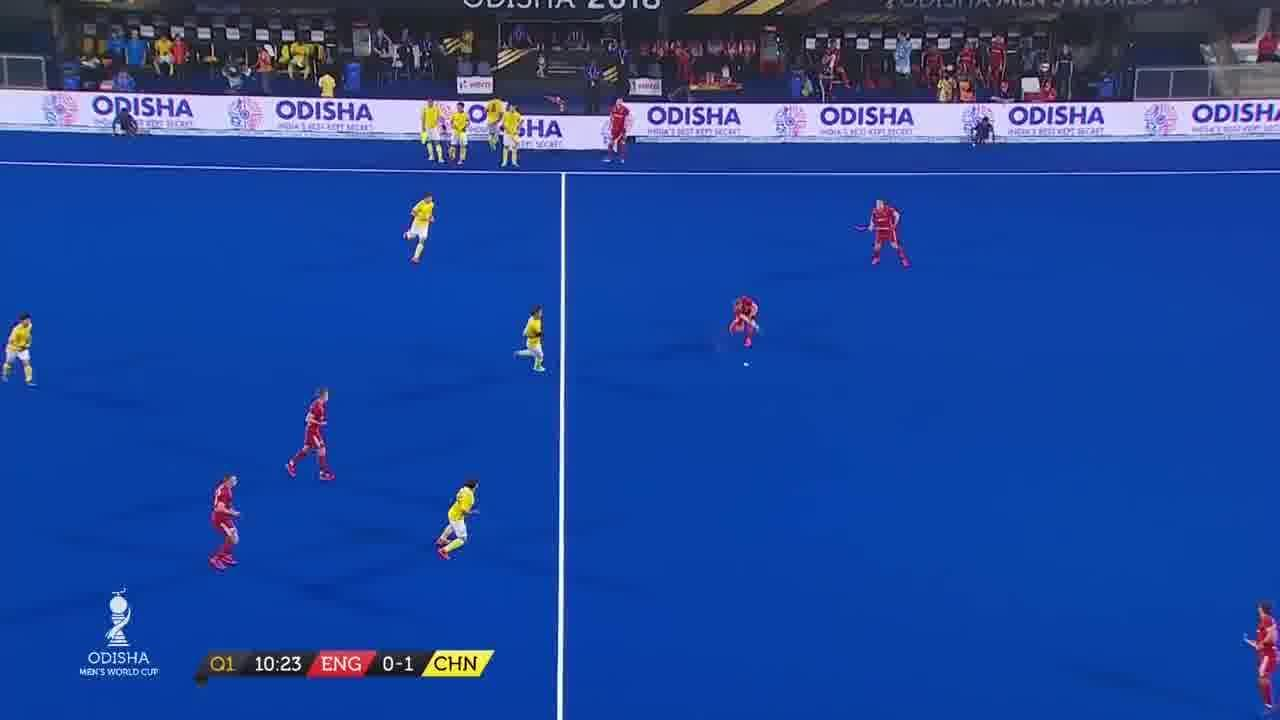ball: (738, 356, 752, 371)
